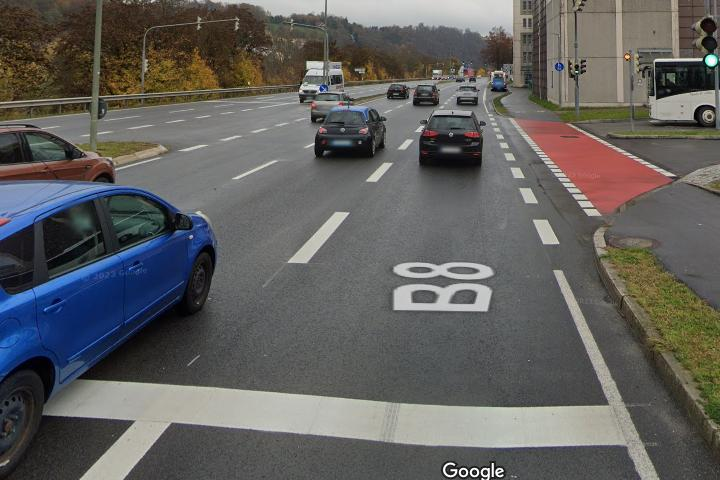traffic_sign: (318, 85, 328, 94)
vehicle: (1, 178, 219, 477), (640, 53, 720, 130), (414, 107, 490, 172), (310, 102, 388, 163), (296, 66, 348, 106), (411, 83, 441, 108), (454, 84, 480, 107), (385, 83, 410, 102), (430, 69, 443, 82)
